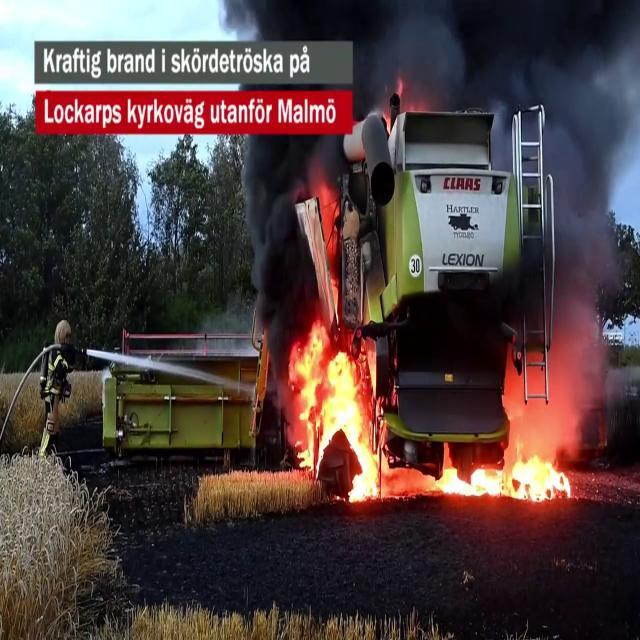Fire: (287, 320, 387, 500), (432, 435, 574, 506)
Smoke: (508, 2, 638, 404), (358, 0, 639, 133), (236, 136, 332, 343)
